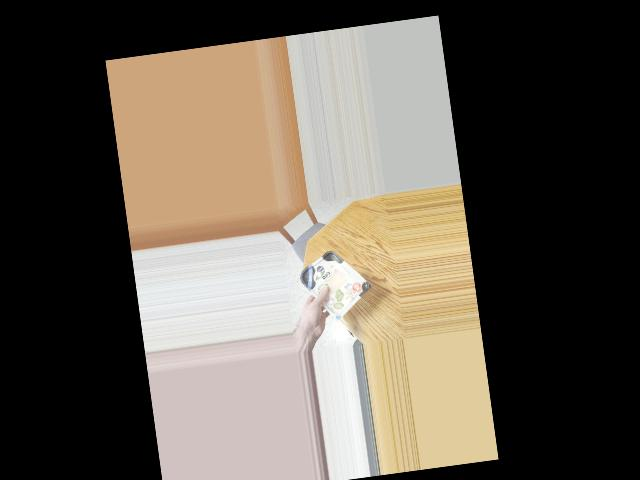cheese: (295, 246, 367, 313)
